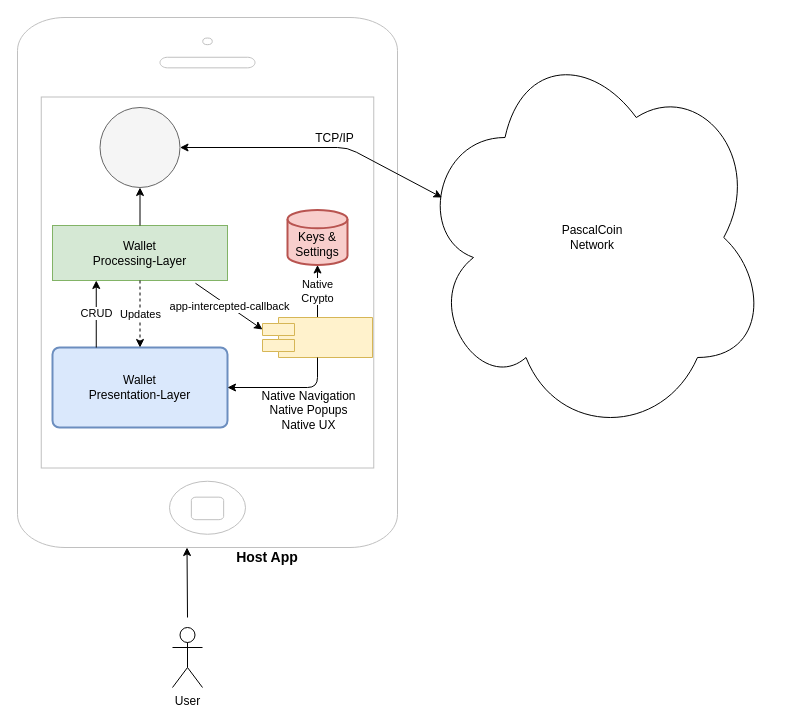
Some shapes in this 785 by 726 pixel diagram are drawn without their labels. The shapes that lost their labels are listed below. From the top down, each one's centre as x and y in pixels, then its label:
At [139,147]: "In-Process Node".
At [317,337]: "Mobile UX Component".
